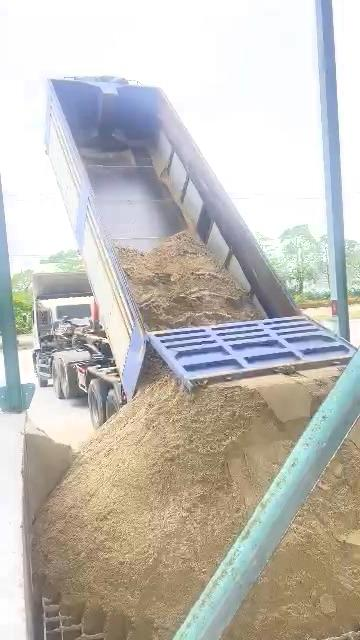sand: (34, 372, 333, 639), (226, 439, 360, 639), (117, 232, 261, 329), (25, 422, 74, 517), (139, 342, 168, 389)
